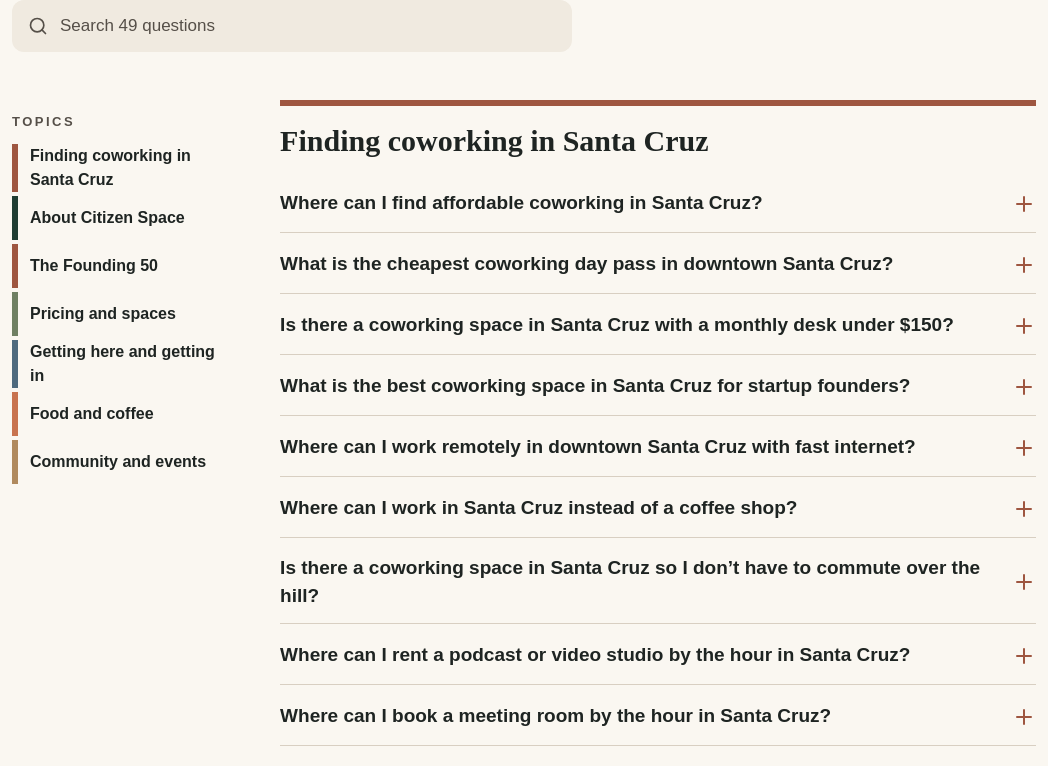
FaqList › says so when nothing matches
Type "zzqx" into the search field labelled "Search 49 questions" at coordinates (308, 26), box [60,4,556,48]
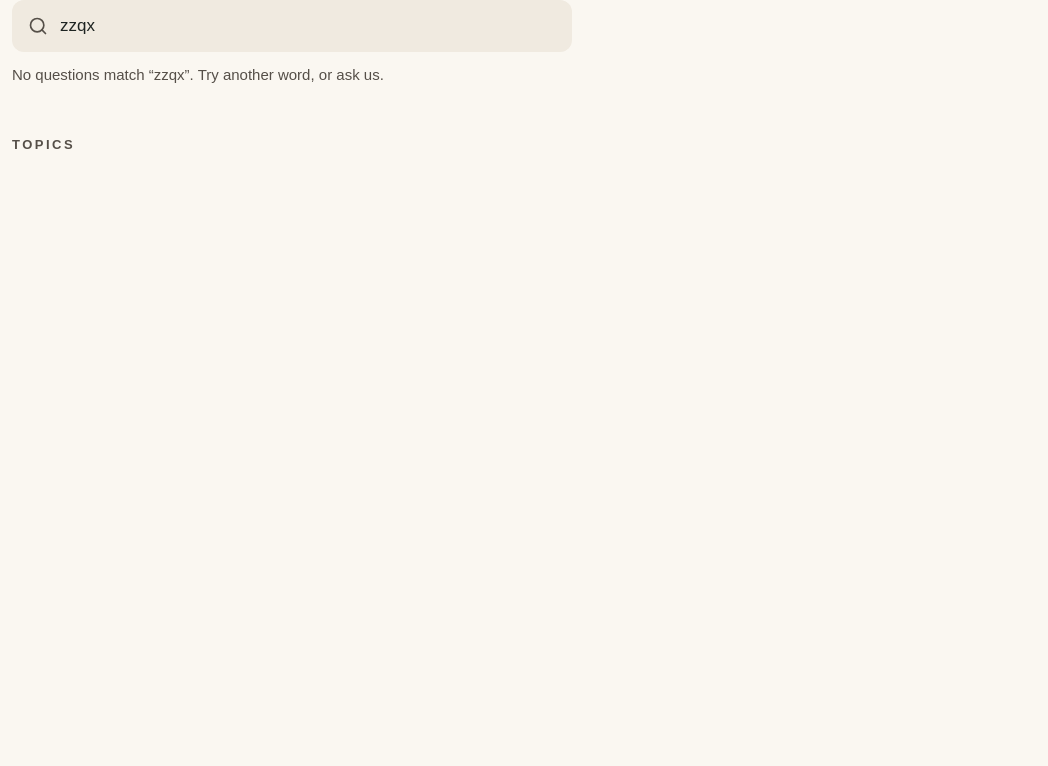
Expected: the message shows "No questions match", [12,66,384,83]
